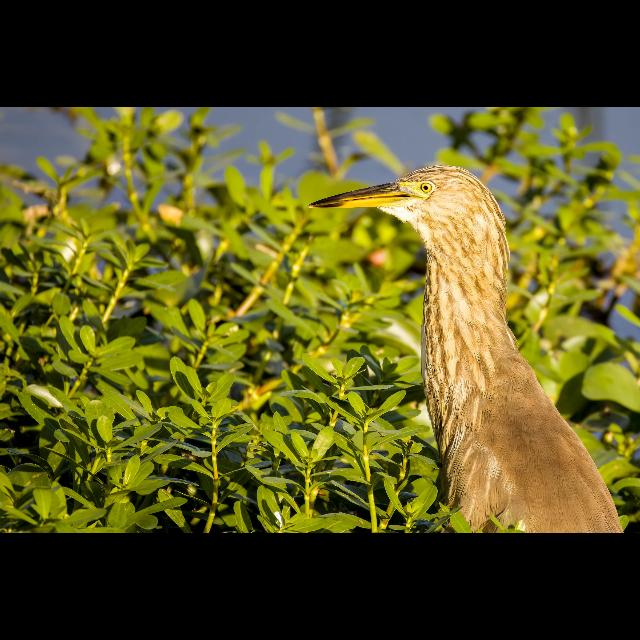heron: (306, 162, 640, 534)
